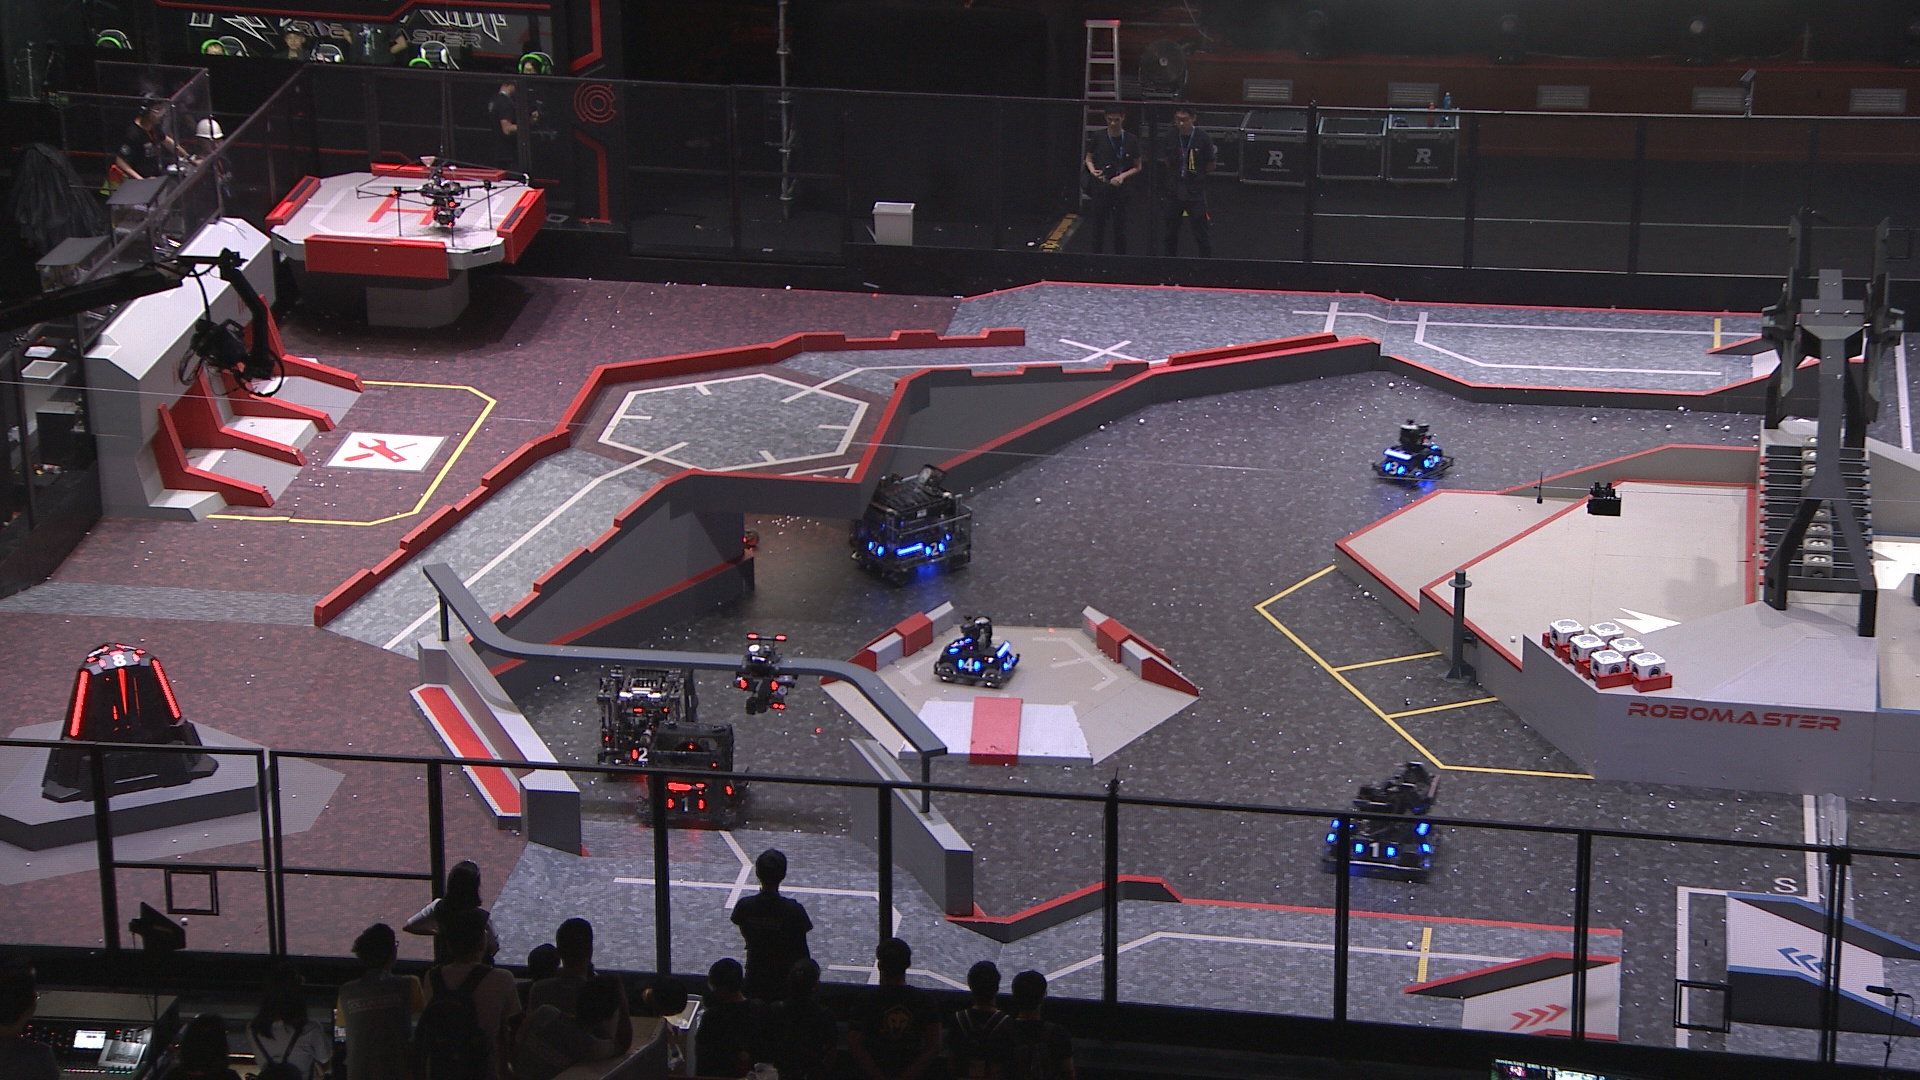armor: (149, 659, 181, 719), (69, 669, 91, 735), (113, 666, 133, 716), (1357, 841, 1396, 862), (667, 796, 705, 816), (738, 675, 779, 694), (98, 650, 140, 666), (956, 654, 982, 676), (629, 745, 654, 764), (88, 641, 107, 662), (923, 542, 945, 556), (1382, 460, 1404, 475), (727, 777, 741, 798), (864, 541, 882, 556), (949, 636, 965, 654), (1424, 454, 1443, 469), (1002, 651, 1015, 673)
base: (36, 636, 220, 800)
car: (840, 462, 977, 588), (1316, 761, 1443, 885), (585, 657, 698, 777), (640, 723, 754, 829), (934, 612, 1021, 688), (1375, 419, 1456, 481), (699, 502, 764, 556)
watcher: (733, 626, 799, 713)
